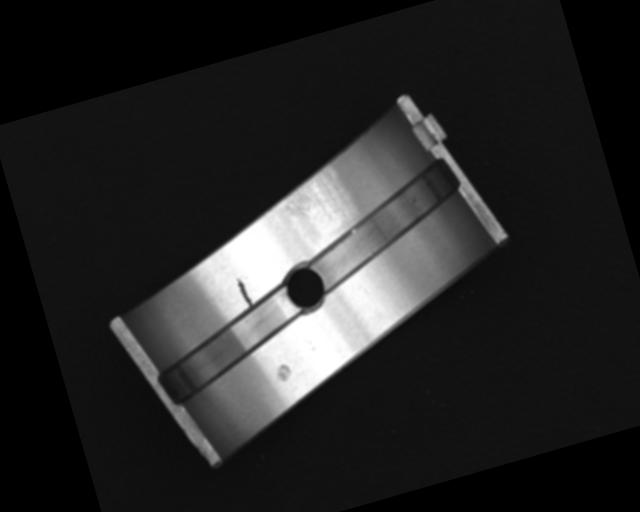bruise: (273, 360, 295, 383)
gap: (293, 162, 473, 292), (146, 290, 313, 405)
hole: (279, 263, 330, 314)
nick: (234, 273, 254, 310)
scratch: (274, 152, 355, 239)
